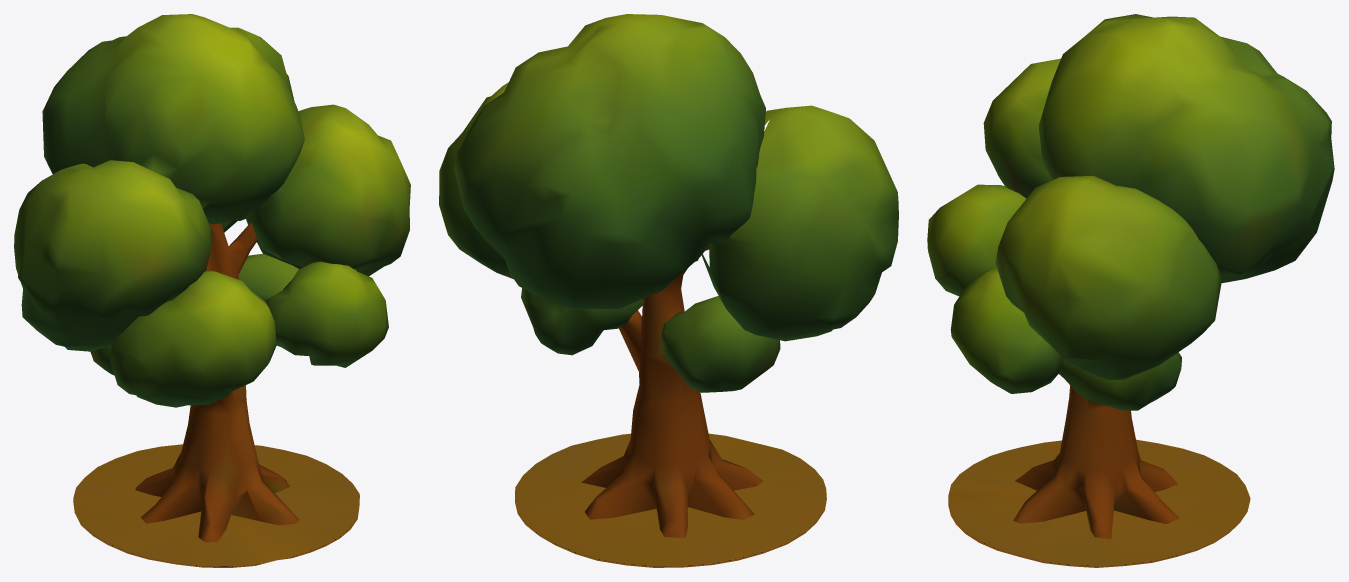
The model's file is tree.glb.
3 renders of one model, left to right at view 1: azimuth 30°, elevation 25°; view 2: azimuth 150°, elevation 25°; view 3: azimuth 270°, elevation 25°, orthographic. The views are drawn at different scales.
Size of the model in its own units: 0.8301 by 0.9536 by 0.7305.
